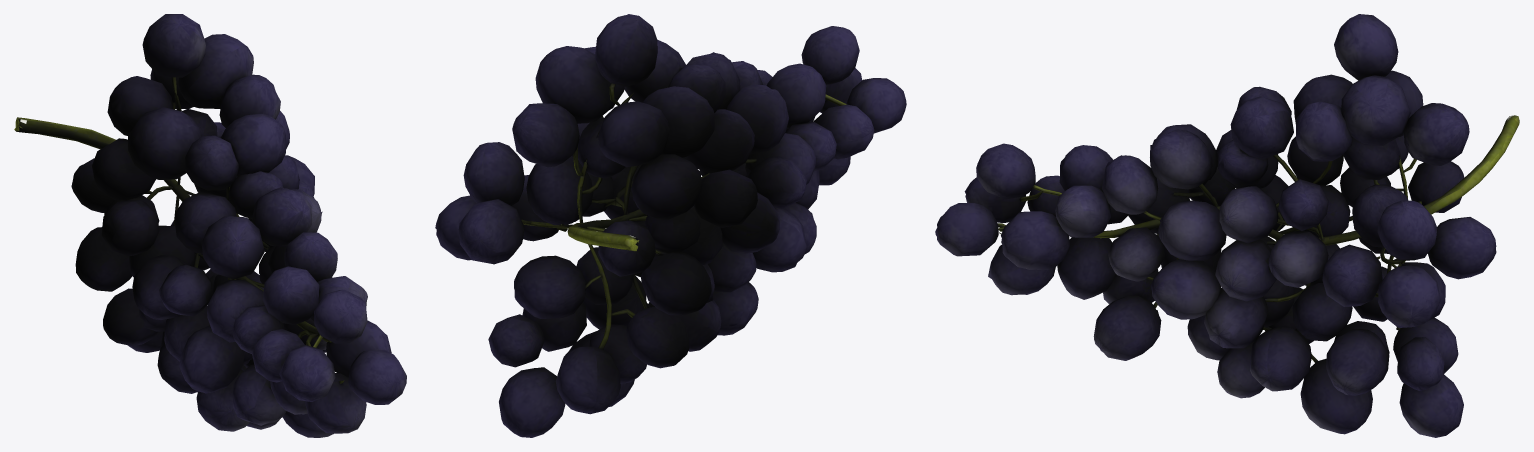
File: FruitGrapes.fbx
3 renders of one model, left to right at view 1: azimuth 30°, elevation 25°; view 2: azimuth 150°, elevation 25°; view 3: azimuth 270°, elevation 25°, orthographic. The views are drawn at different scales.
Parts seen in each view (by area): view 1: Grapes; view 2: Grapes; view 3: Grapes.
Boxes of the visible parts, box(x1,y1,x2,y2) form: Grapes: box(14, 14, 406, 437); Grapes: box(435, 14, 906, 437); Grapes: box(935, 14, 1519, 437).
Bounding box in the file's own units: 35.83 × 53.06 × 71.45.
1 material, 1 textured.
